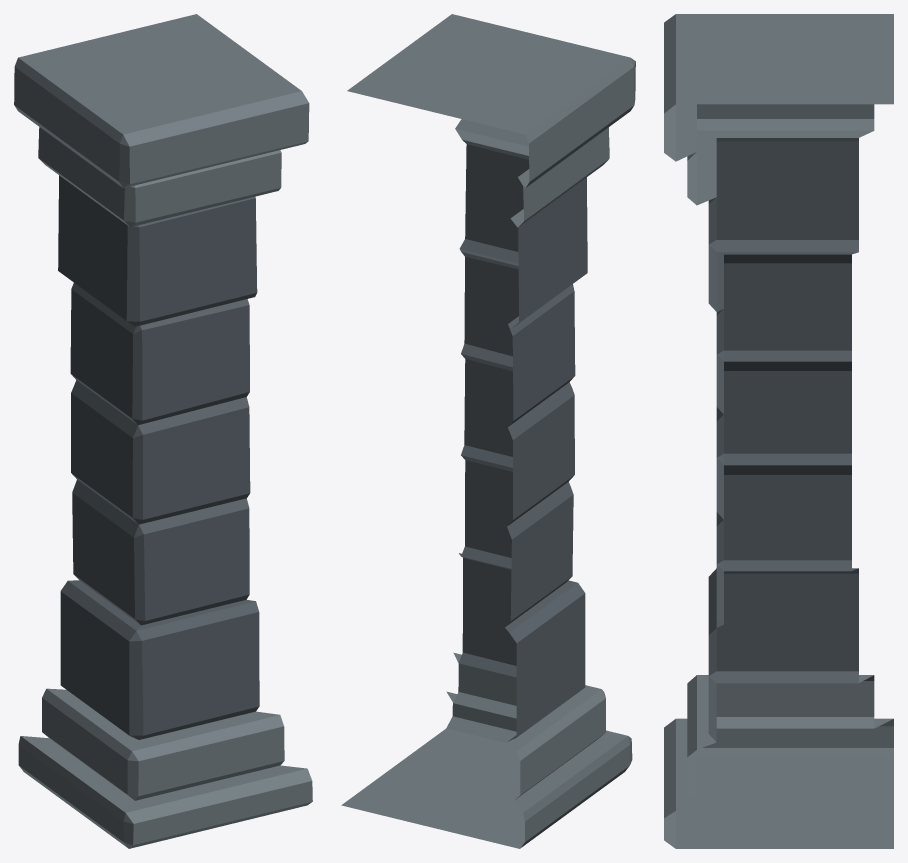
File: Pillar_Corner.fbx
3 renders of one model, left to right at view 1: azimuth 30°, elevation 25°; view 2: azimuth 150°, elevation 25°; view 3: azimuth 270°, elevation 25°, orthographic. The views are drawn at different scales.
Visible parts, largest first — view 1: Pillar_Corner; view 2: Pillar_Corner; view 3: Pillar_Corner.
Boxes of the visible parts, x1,y1,x2,y2 form: Pillar_Corner: [14, 14, 312, 848]; Pillar_Corner: [341, 14, 635, 848]; Pillar_Corner: [664, 14, 893, 848].
Size of the model in its own units: 56.38 by 205 by 57.56.
